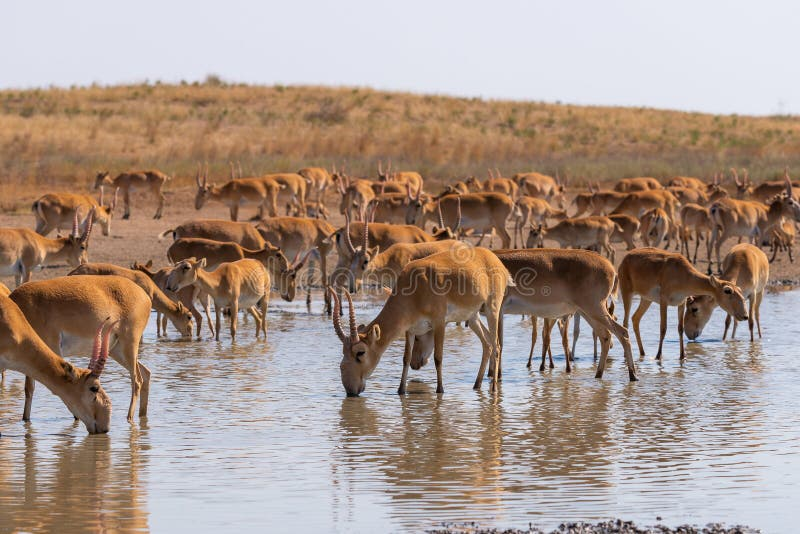saiga: (328, 244, 513, 401)
